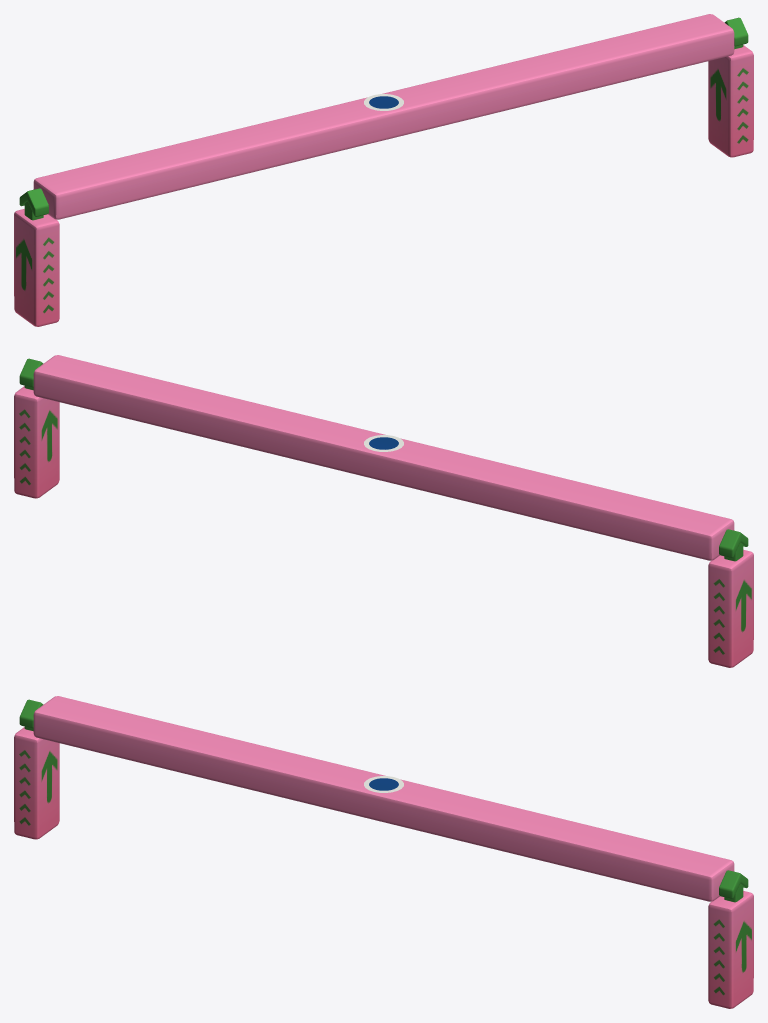
The picture shows the model from 3 angles, top to bottom: view 1: azimuth 30°, elevation 25°; view 2: azimuth 150°, elevation 25°; view 3: azimuth 330°, elevation 25°; orthographic projection.
Parts seen in each view (by area): view 1: shape3_10, top_cycle; view 2: shape3_10, top_cycle; view 3: shape3_10, top_cycle.
Part boxes in pixels (left/top/right/bottom): shape3_10: left=14, top=14, right=753, bottom=326; top_cycle: left=364, top=94, right=403, bottom=110; shape3_10: left=14, top=355, right=753, bottom=667; top_cycle: left=364, top=435, right=403, bottom=451; shape3_10: left=14, top=696, right=753, bottom=1008; top_cycle: left=364, top=776, right=403, bottom=792.
Bounding box in the file's own units: 86.99 × 15.08 × 5.
